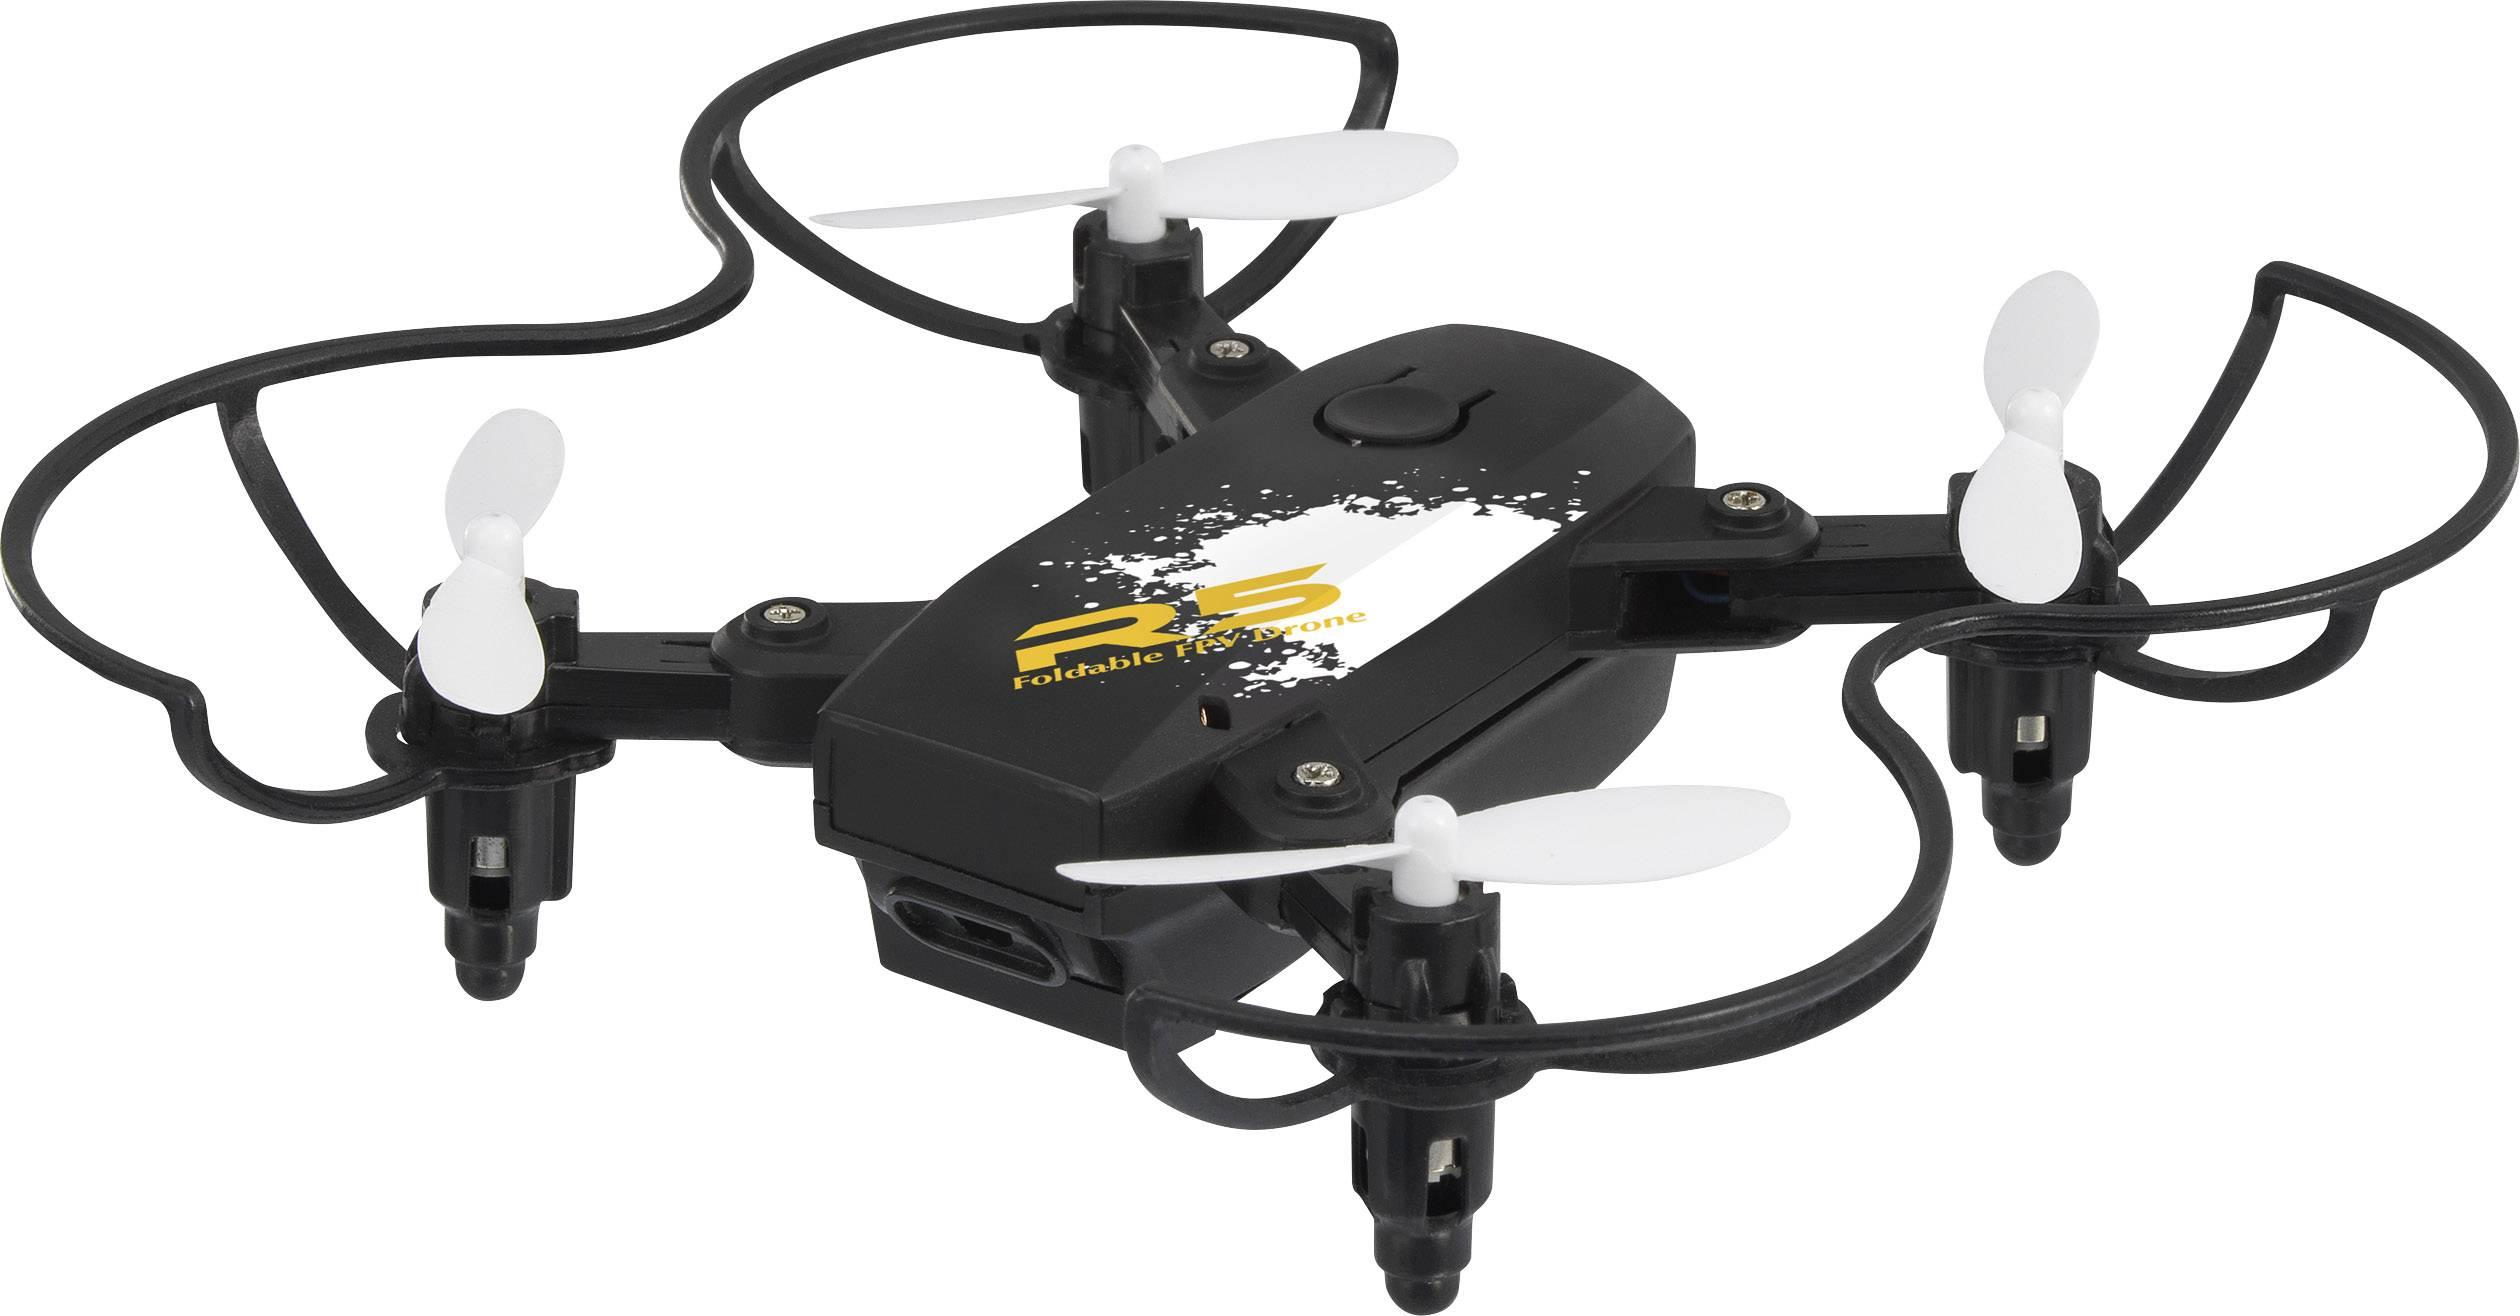drone: (262, 57, 2453, 1071)
